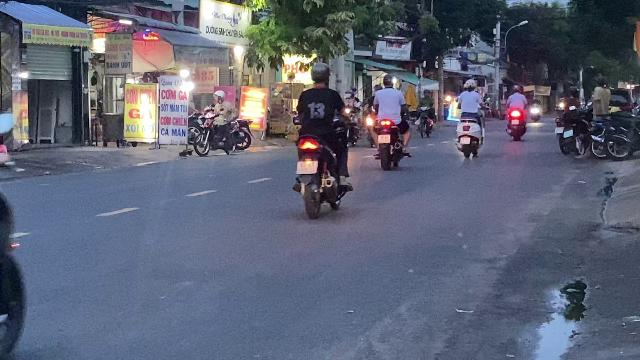helmet: (308, 61, 332, 87)
licenseplate: (296, 160, 318, 174), (378, 134, 390, 144)
motorcyclist: (288, 62, 352, 219), (369, 73, 411, 170)
